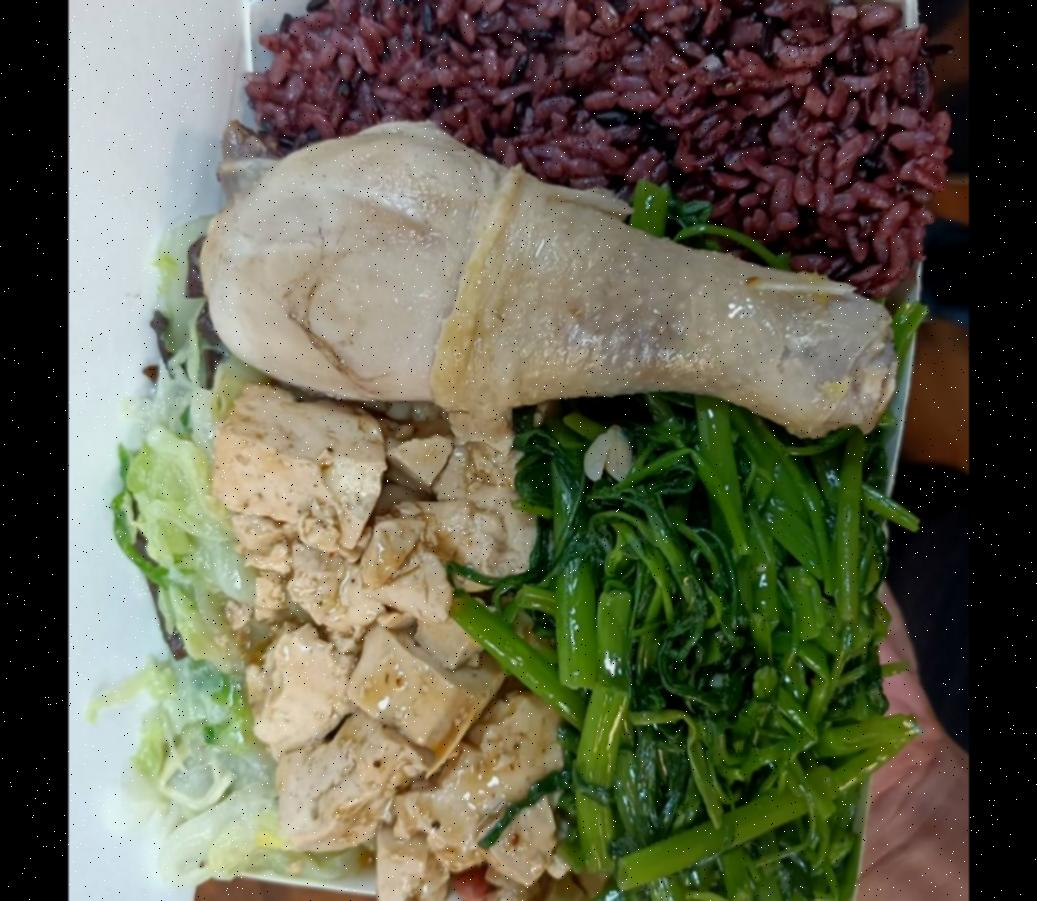plate: (180, 0, 929, 901)
purple rice: (248, 0, 897, 275)
side dish: (512, 394, 859, 901), (214, 378, 547, 901), (128, 316, 346, 898)
small herbal chicken leg: (184, 101, 886, 466)
